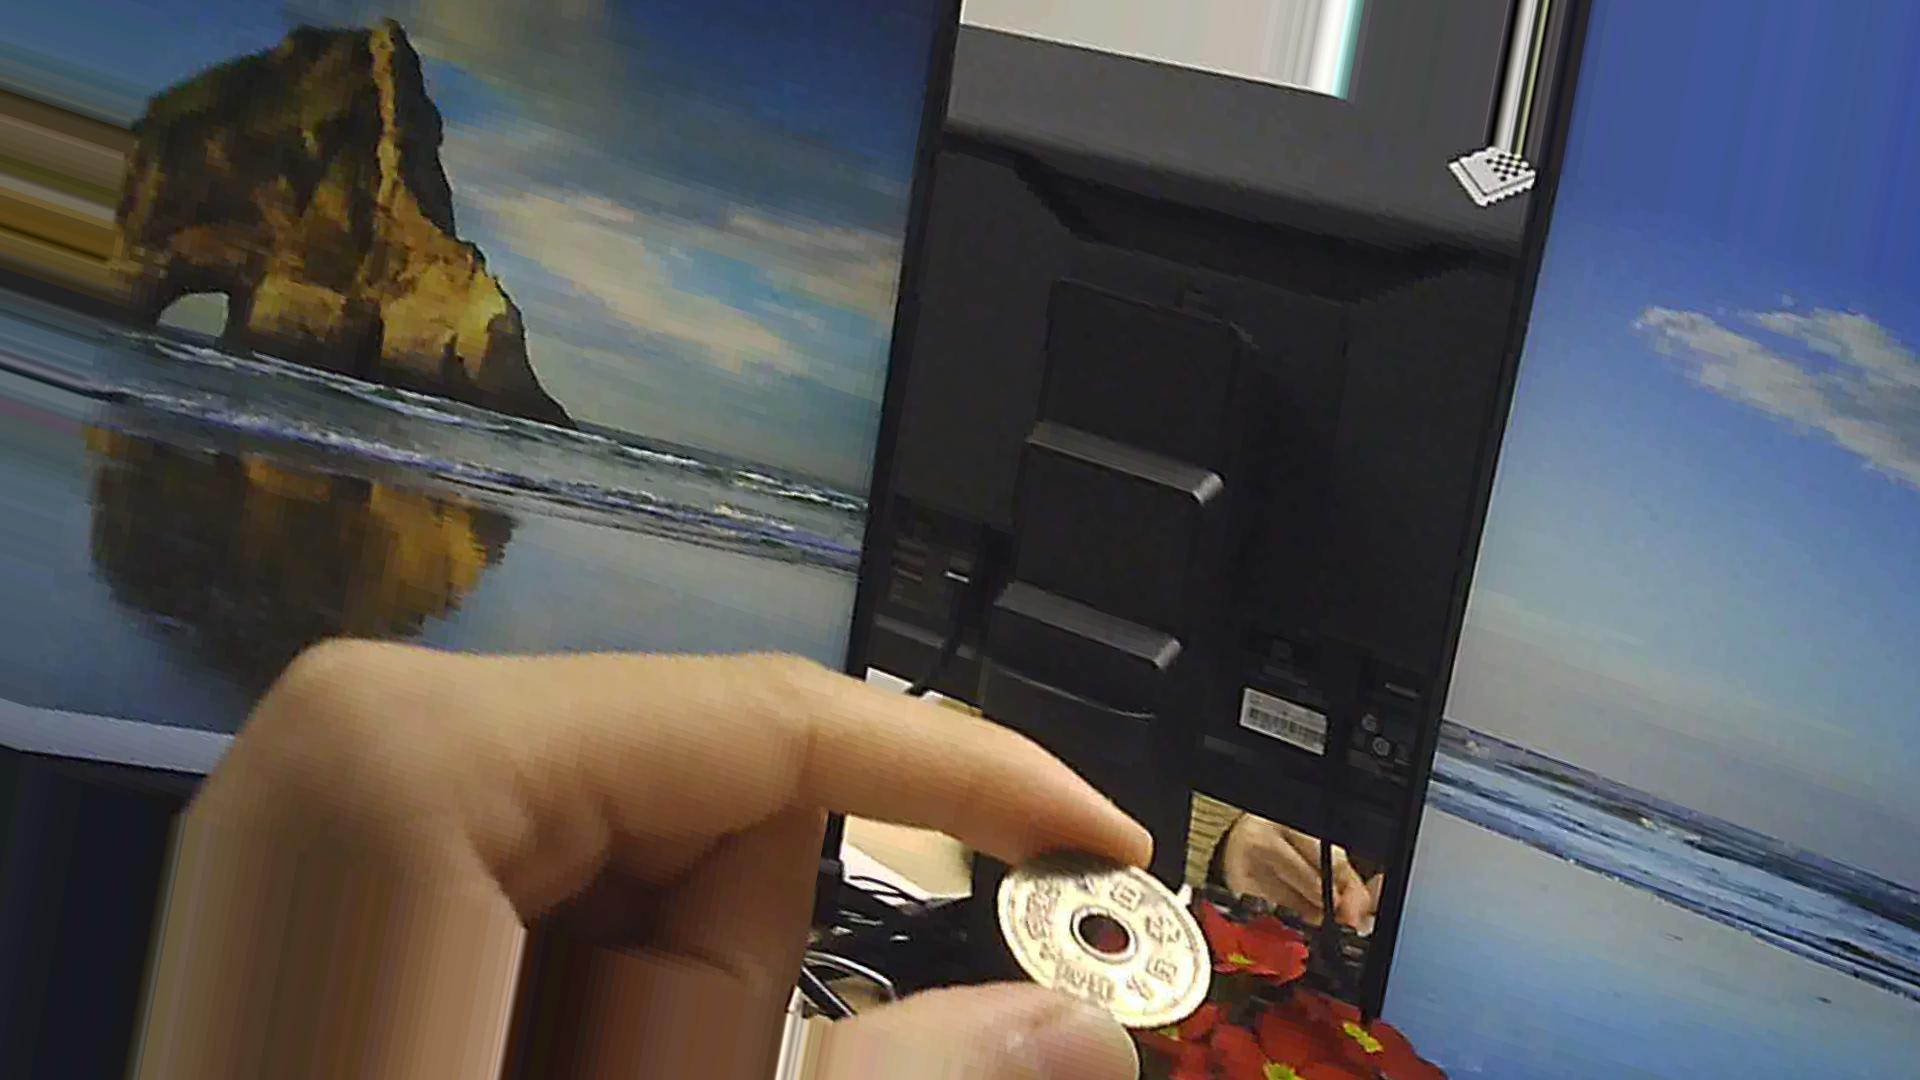5 Yen: (986, 837, 1226, 1038)
